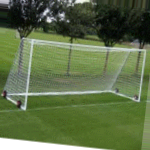goals: (1, 37, 147, 114)
